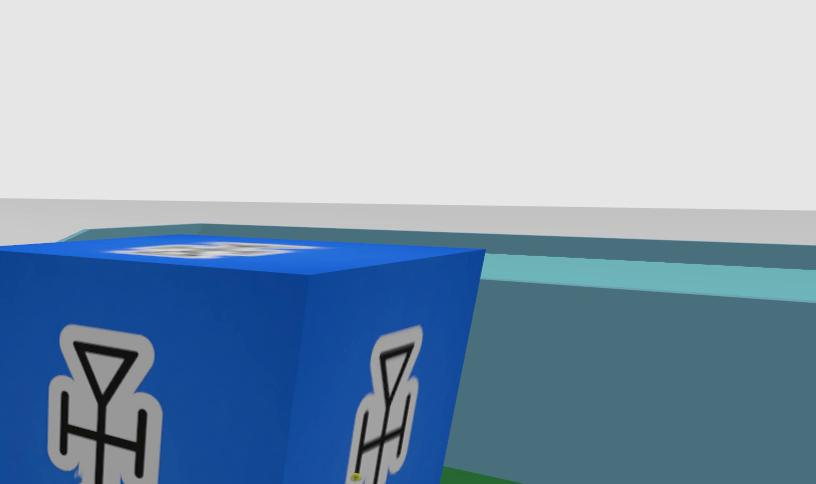KFS_REAL: (0, 234, 482, 484), (48, 326, 162, 484), (346, 327, 423, 484)
